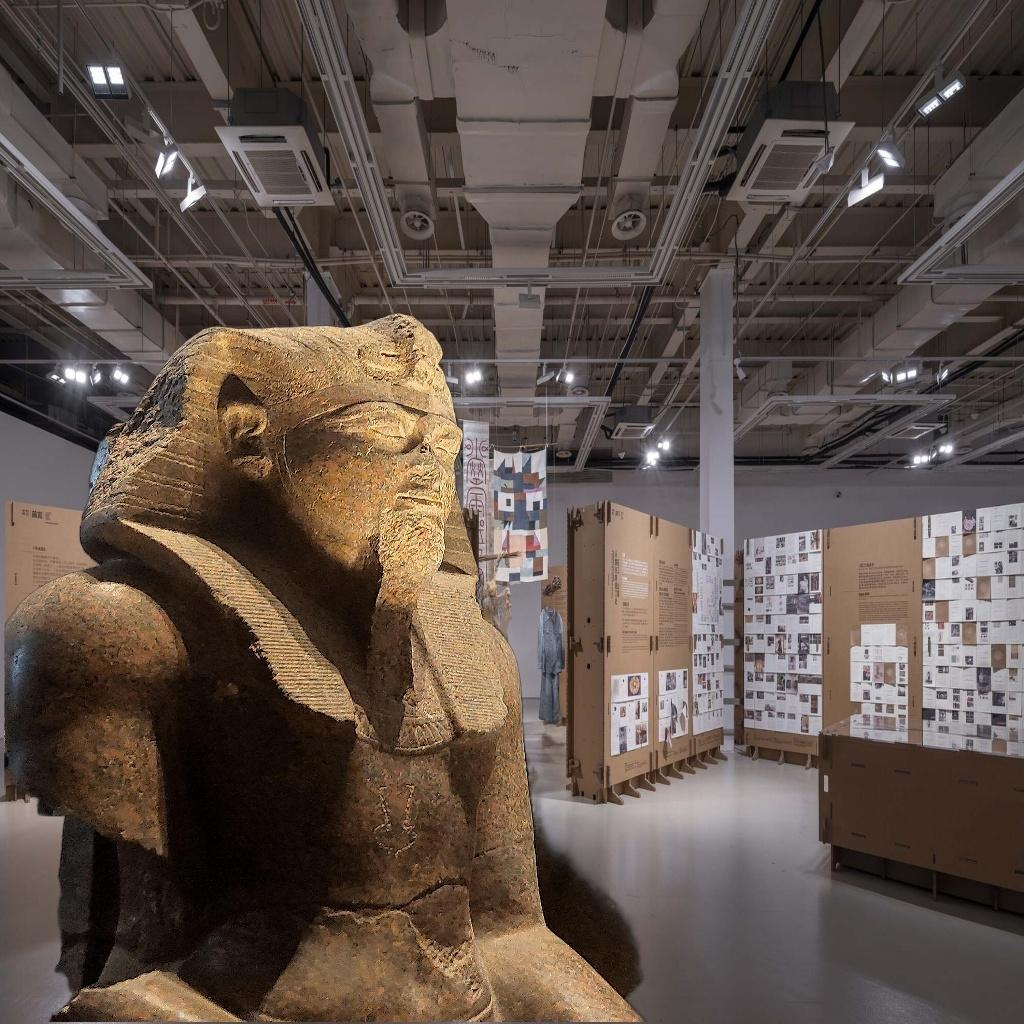Seated Statue of Ramesses II and God Ptah: (4, 304, 880, 1022)
